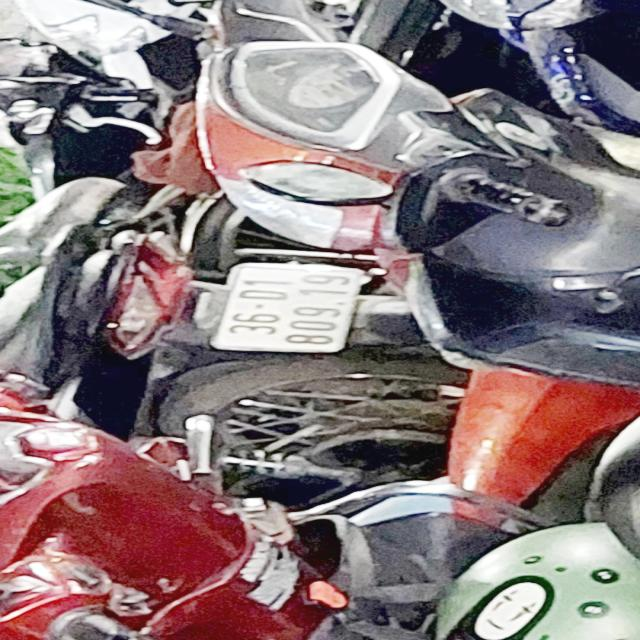license_plate: (210, 262, 367, 355)
